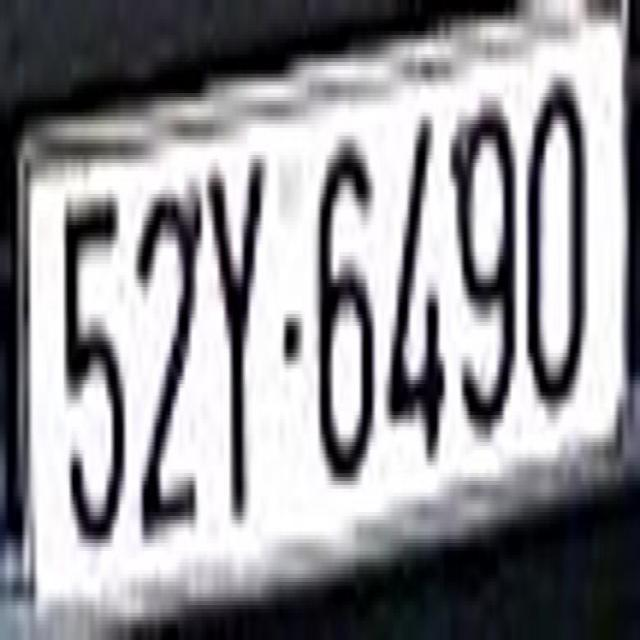0: (525, 74, 589, 407)
2: (136, 186, 201, 539)
4: (384, 101, 447, 446)
5: (63, 198, 126, 554)
6: (316, 128, 375, 485)
9: (452, 93, 515, 427)
Y: (205, 163, 269, 524)
